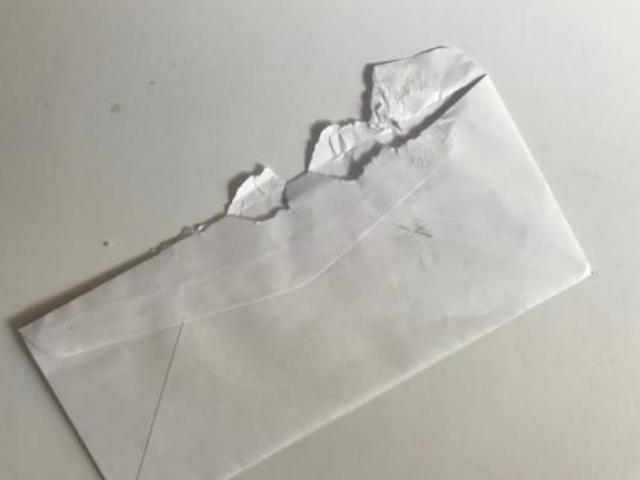cardboard paper: (23, 46, 592, 476)
